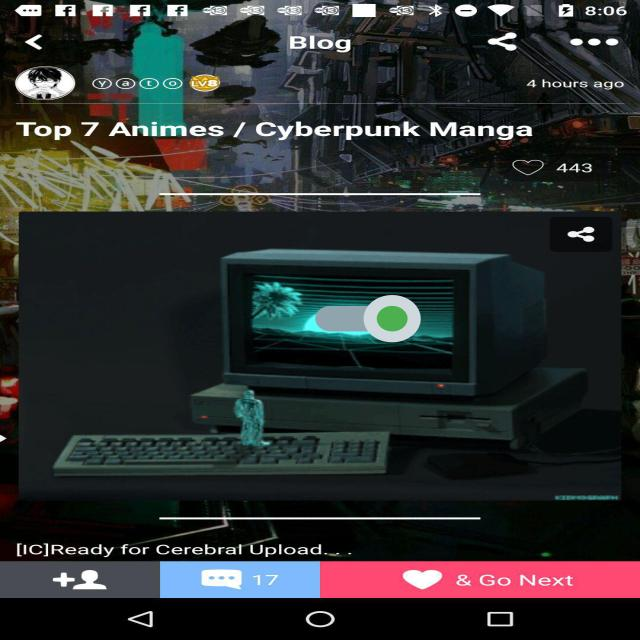social proof: (315, 275, 421, 362)
